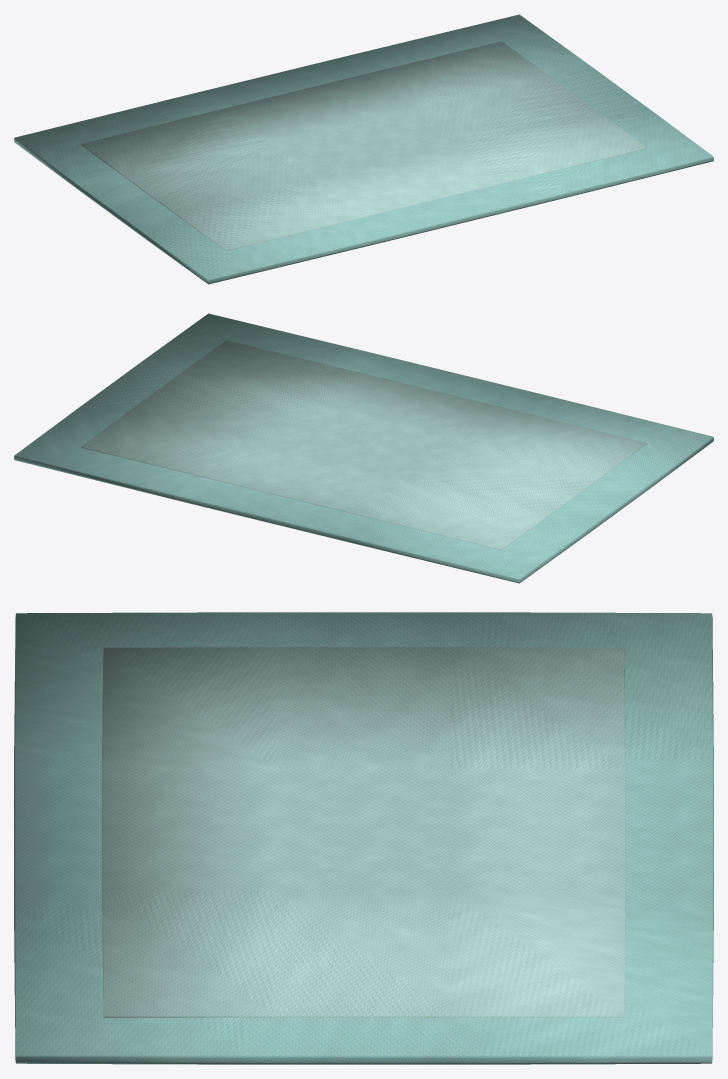
Rendered from bathmat.glb.
The picture shows the model from 3 angles, top to bottom: view 1: azimuth 30°, elevation 25°; view 2: azimuth 150°, elevation 25°; view 3: azimuth 270°, elevation 25°; orthographic projection. The views are drawn at different scales.
Visible parts, largest first — view 1: bathmat_body; view 2: bathmat_body; view 3: bathmat_body.
Boxes of the visible parts, <box> form: bathmat_body: <box>14,14,713,284</box>; bathmat_body: <box>14,313,713,583</box>; bathmat_body: <box>14,612,713,1064</box>.
Size of the model in its own units: 1.2 by 0.02 by 0.7999.
Materials: 2 (2 with a texture image).
